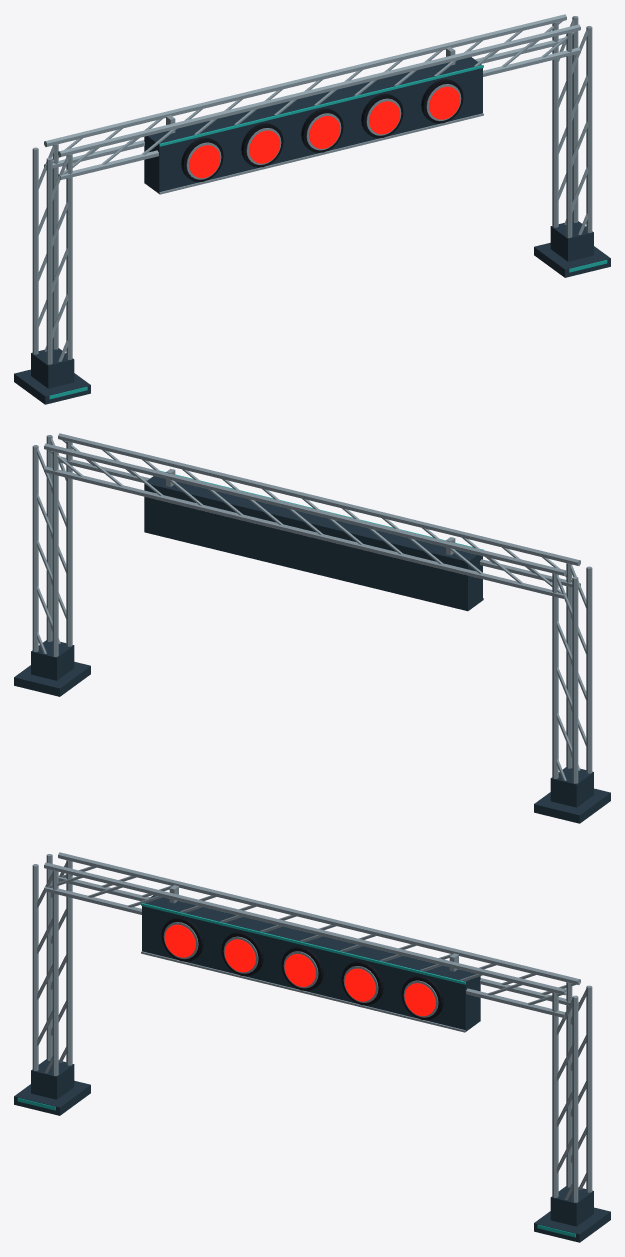
The model's file is start-gantry.glb.
3 renders of one model, top to bottom at view 1: azimuth 30°, elevation 25°; view 2: azimuth 150°, elevation 25°; view 3: azimuth 330°, elevation 25°, orthographic.
Visible parts, largest first — view 1: truss_silver, frame_navy, housing_graphite, trim_teal, lamp4, lamp1, lamp2, lamp5, lamp3; view 2: truss_silver, frame_navy; view 3: truss_silver, frame_navy, housing_graphite, trim_teal, lamp2, lamp4, lamp5, lamp1, lamp3.
Boxes of the visible parts, x1,y1,x2,y2 form: truss_silver: [32, 14, 592, 364]; frame_navy: [14, 57, 610, 404]; housing_graphite: [181, 79, 463, 182]; trim_teal: [49, 65, 607, 399]; lamp4: [369, 101, 400, 134]; lamp1: [189, 145, 220, 178]; lamp2: [249, 130, 280, 163]; lamp5: [429, 86, 460, 119]; lamp3: [309, 116, 340, 148]; truss_silver: [32, 433, 592, 783]; frame_navy: [14, 476, 610, 823]; truss_silver: [32, 852, 592, 1202]; frame_navy: [14, 895, 610, 1242]; housing_graphite: [161, 917, 443, 1020]; trim_teal: [17, 903, 575, 1237]; lamp2: [224, 939, 255, 972]; lamp4: [344, 968, 375, 1001]; lamp5: [404, 983, 435, 1016]; lamp1: [164, 924, 195, 957]; lamp3: [284, 954, 315, 986].
Size of the model in its own units: 14.15 by 5.78 by 1.37.
